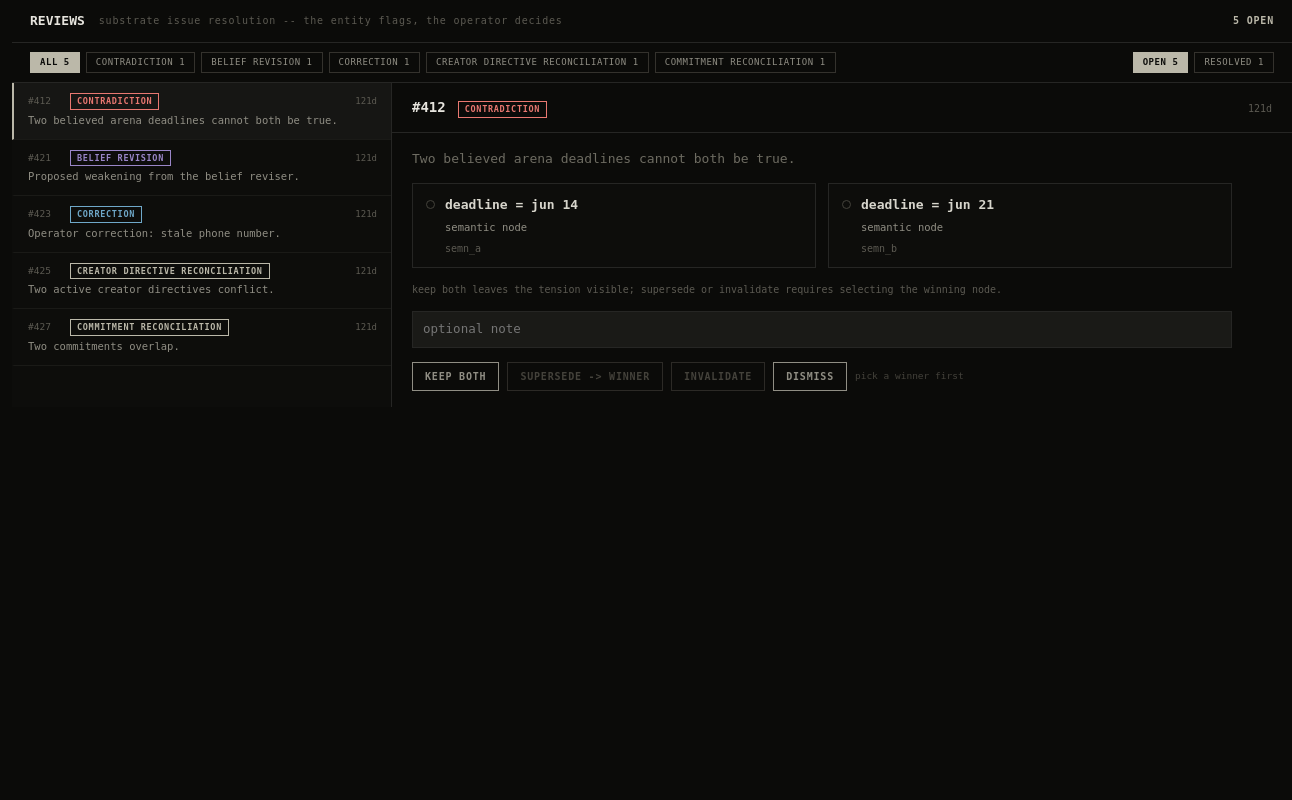
Test: Reviews page › renders action sets for selected review kinds
Expected: the text "5 OPEN" is shown, [1233,13,1274,28]
Expected: the button "SUPERSEDE -> WINNER" is shown, [507,362,663,390]
Click the text "Proposed weakening from the belief reviser." at (164, 176), box [28,170,300,182]
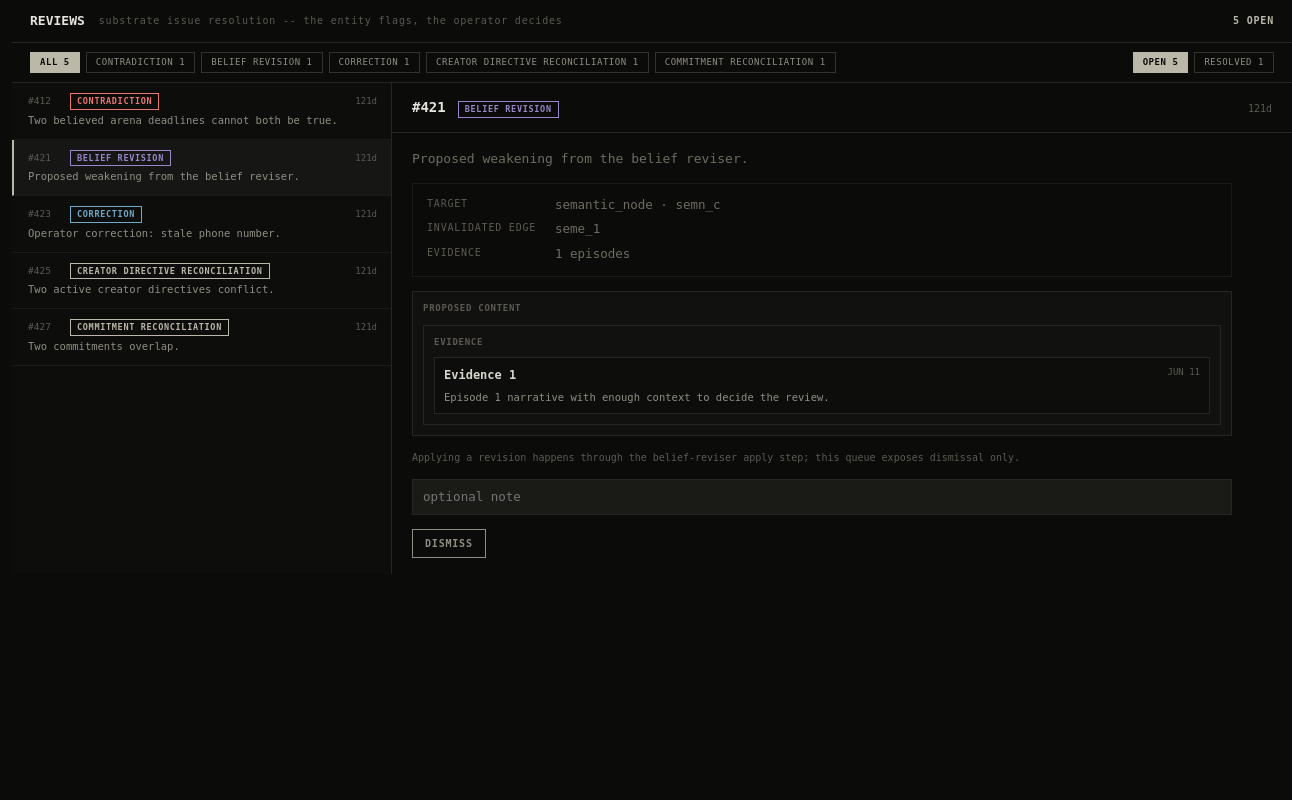
Expected: the button "DISMISS" is shown, [412,530,486,558]
Click the text "Two active creator directives conflict." at (151, 289), box [28,283,274,295]
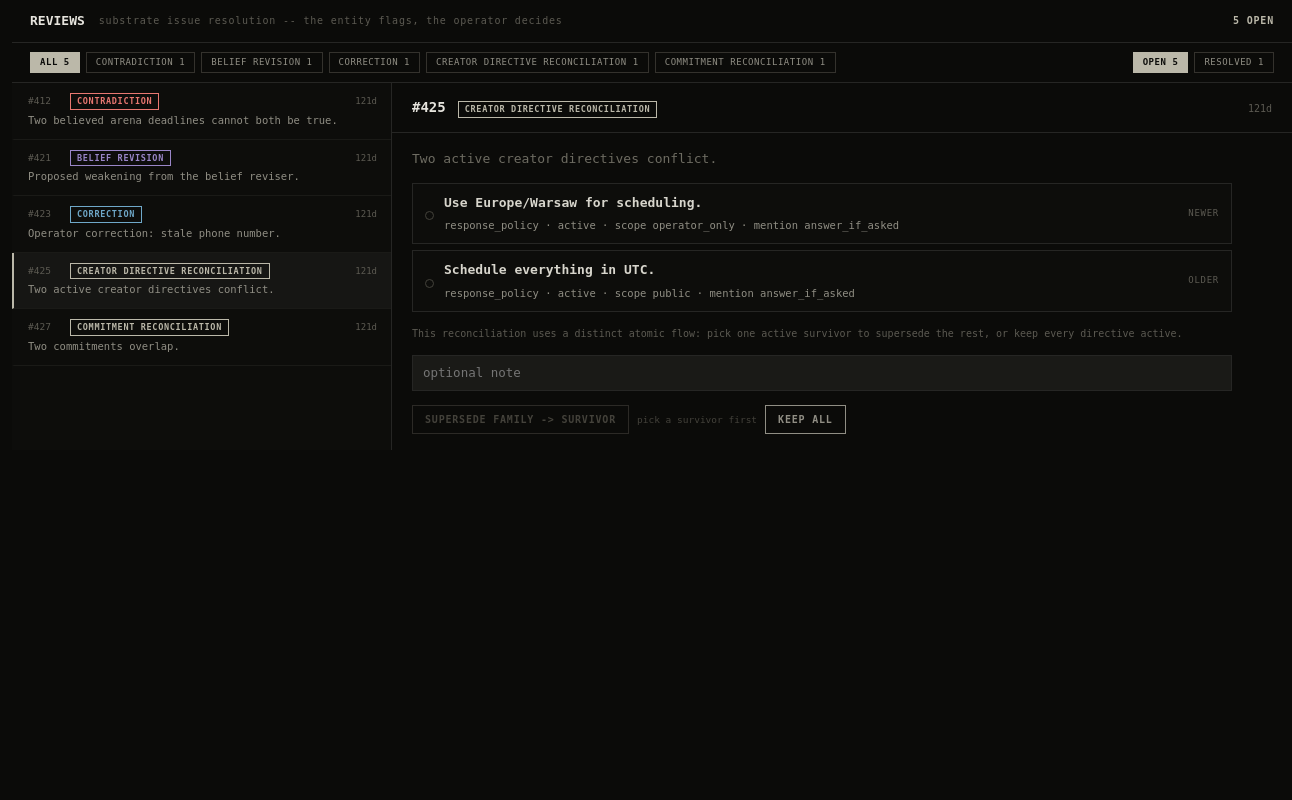
Expected: the button "SUPERSEDE FAMILY -> SURVIVOR" is shown, [412,405,629,434]
Expected: the button "KEEP ALL" is shown, [765,405,846,434]
